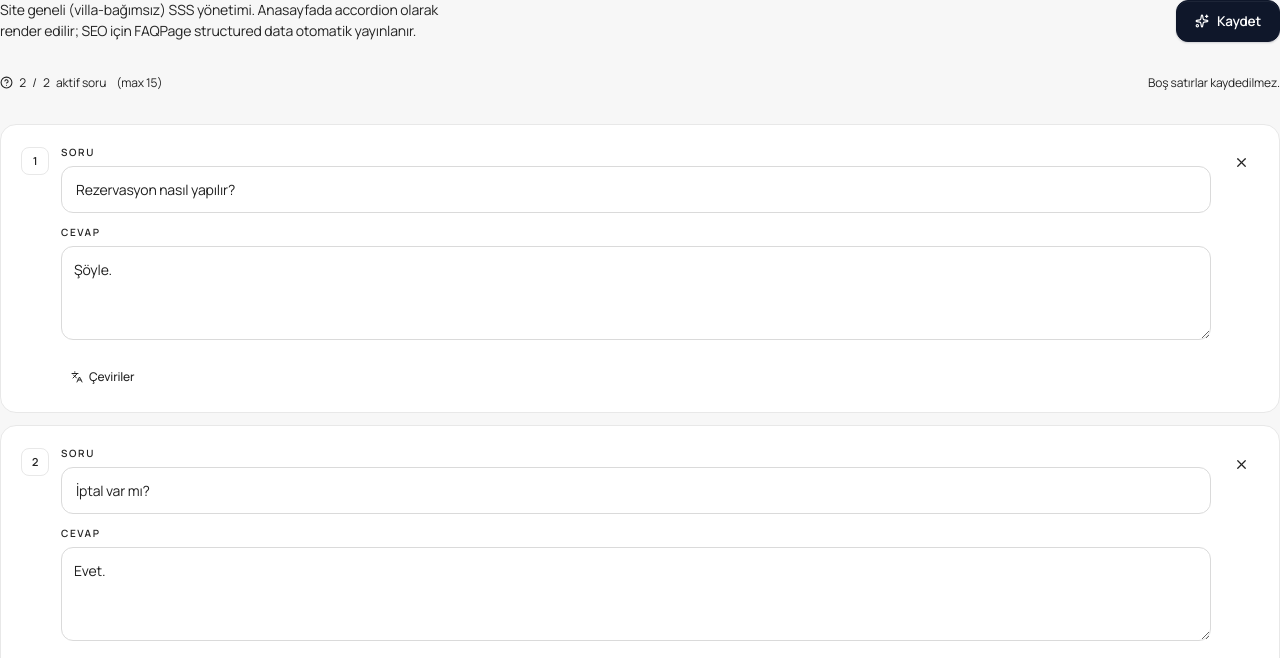
Test case: /maki-admin/faqs — çoklu dil › 30) mevcut çeviriler forma YÜKLENİR
The width and height of the screenshot is (1280, 658).
Expected: the 1st field showing "Rezervasyon nasıl yapılır?" is shown, [61, 166, 1211, 213]
Click the button "Çeviriler" at (103, 377), box [61, 362, 144, 392]
(page scrolled)
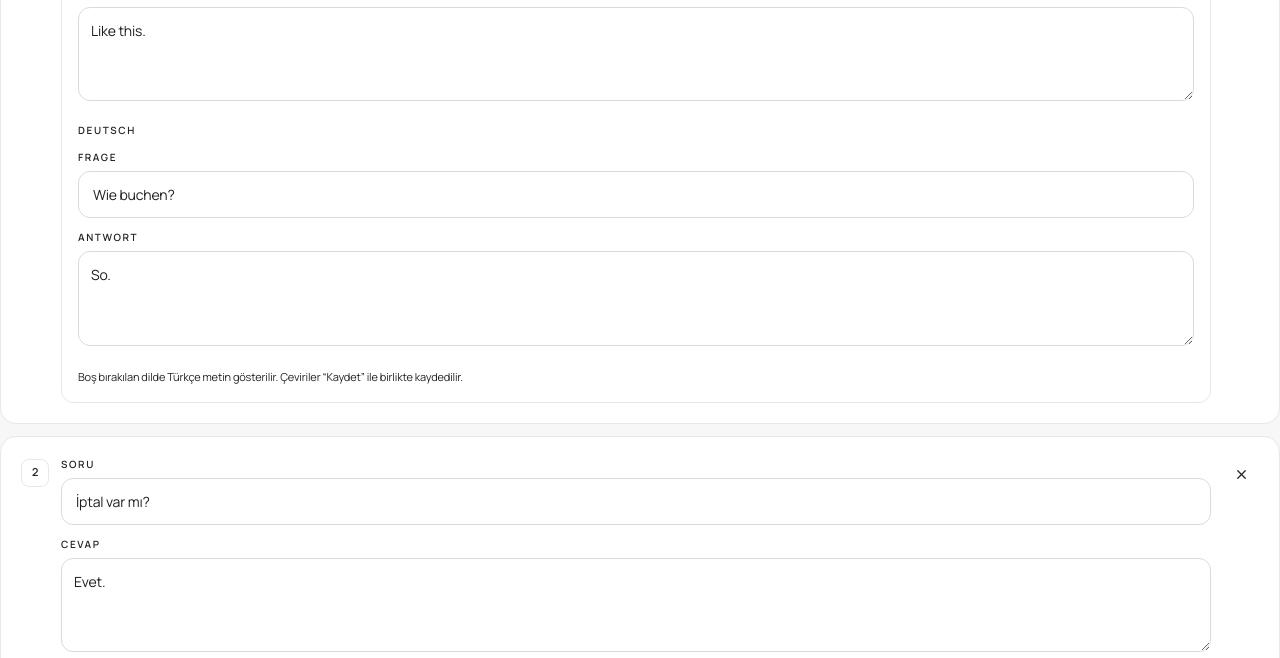
Expected: the text box named "Deutsch Antwort" holds "So.", [78, 251, 1194, 346]
